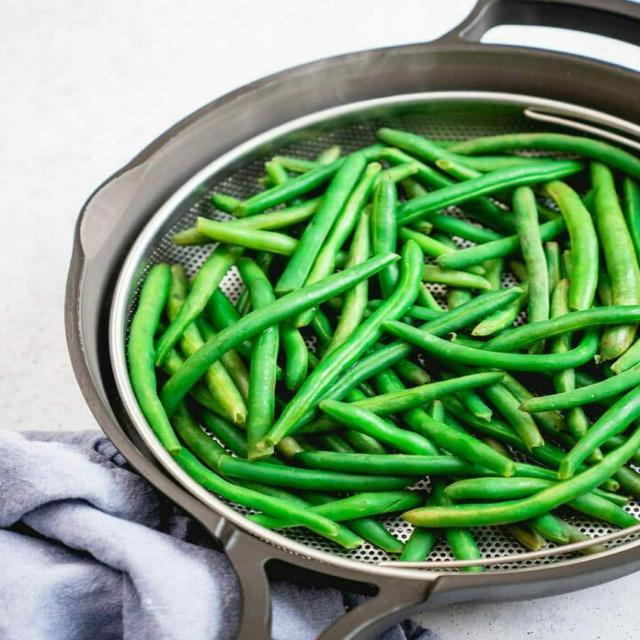Beans: (128, 116, 639, 571)
